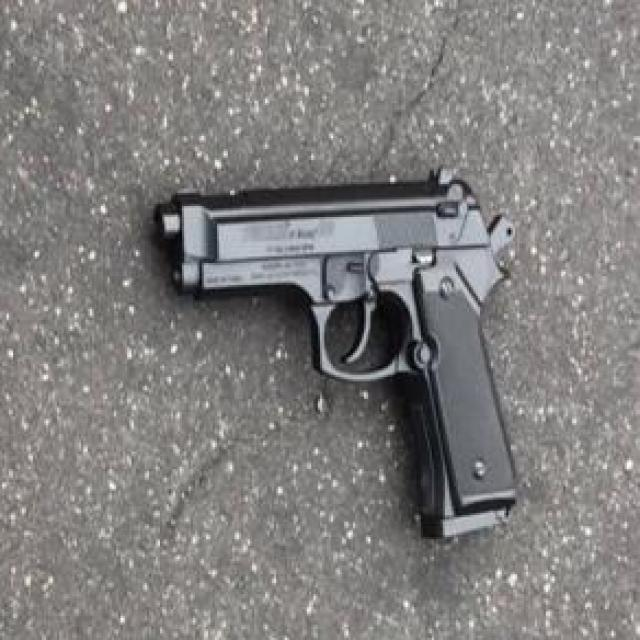pistol: (147, 175, 545, 542)
